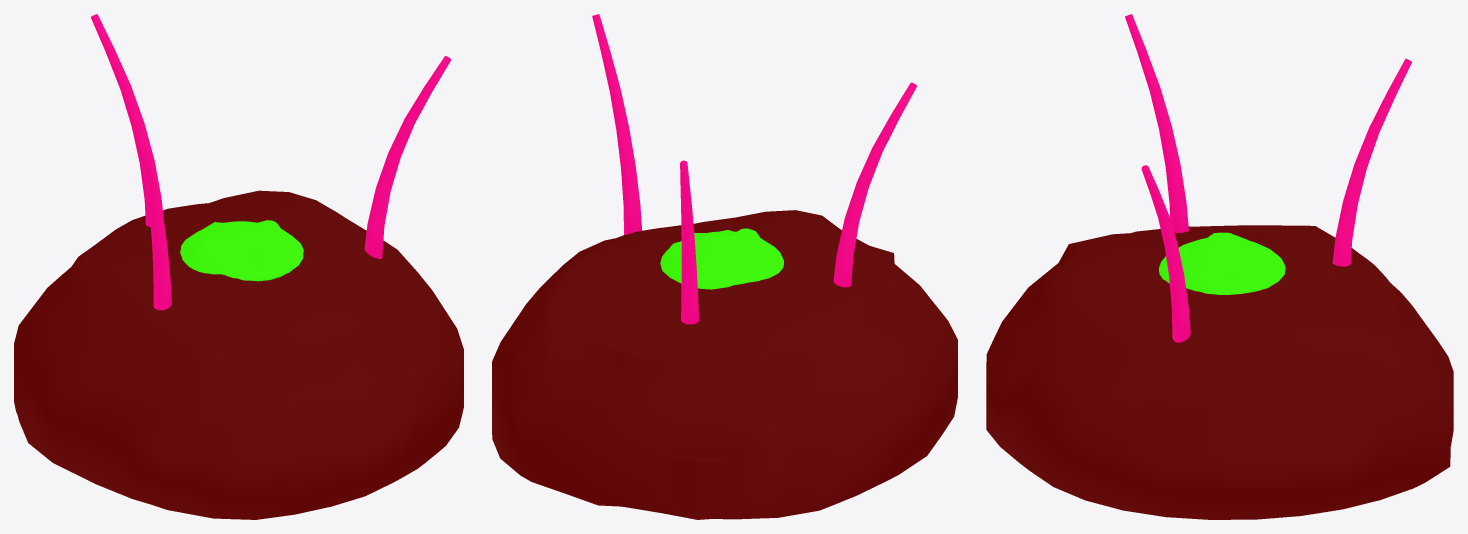
Rendered from Plant_01_ranke_state00.gltf.
3 renders of one model, left to right at view 1: azimuth 30°, elevation 25°; view 2: azimuth 150°, elevation 25°; view 3: azimuth 270°, elevation 25°, orthographic.
Visible parts, largest first — view 1: NurbsPath.002; view 2: NurbsPath.002; view 3: NurbsPath.002.
Boxes of the visible parts, x1,y1,x2,y2 form: NurbsPath.002: (14,14,463,519); NurbsPath.002: (492,14,957,519); NurbsPath.002: (986,14,1453,519).
Size of the model in its own units: 1.17 by 1.01 by 1.21.
